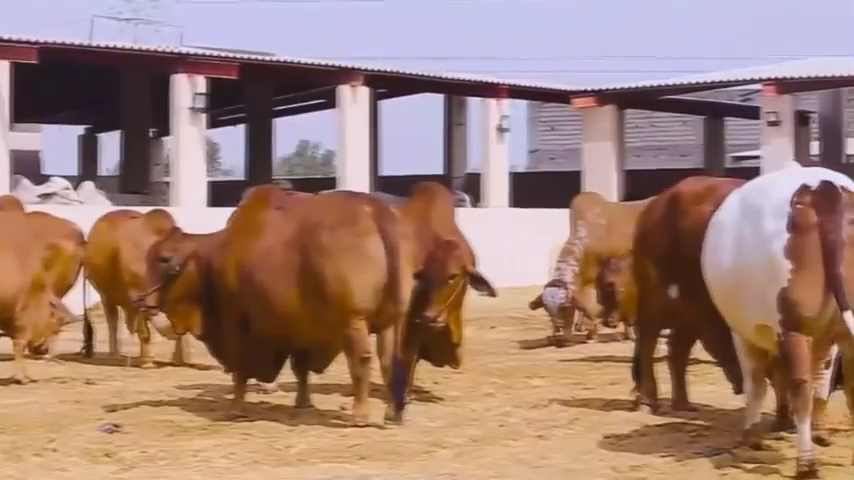bo: (128, 182, 398, 431), (696, 143, 850, 480), (611, 160, 729, 415), (377, 159, 502, 393), (84, 195, 194, 372), (521, 182, 636, 346), (2, 205, 77, 388), (588, 245, 652, 344)
